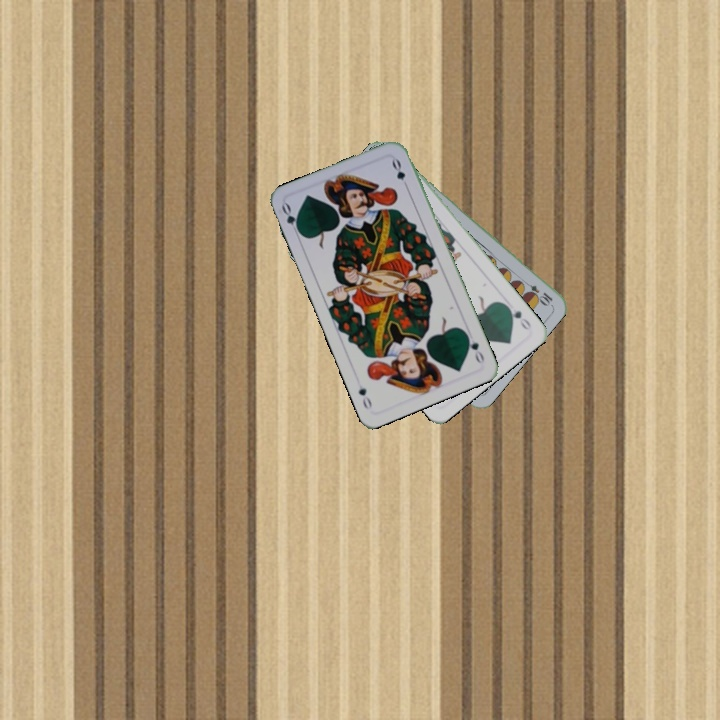E10: (519, 277, 555, 308)
GO: (277, 199, 304, 239), (501, 301, 534, 333), (462, 329, 487, 366)
